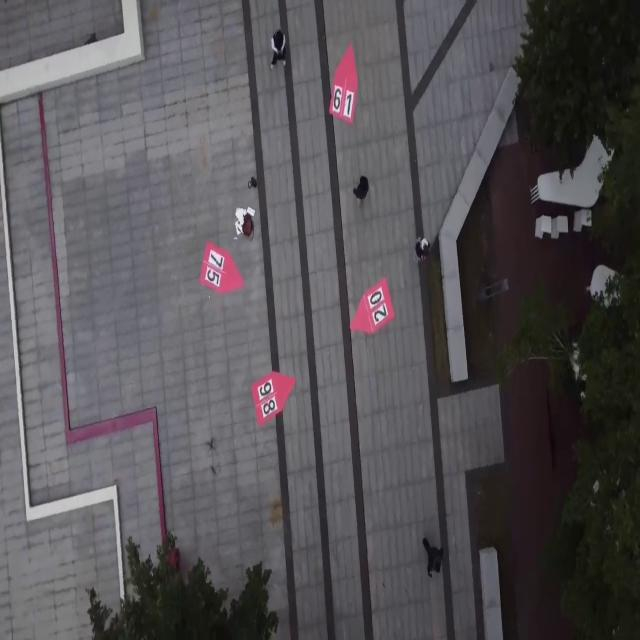-sign-: (199, 240, 245, 295), (351, 277, 395, 334), (251, 371, 294, 427), (329, 42, 358, 125)
